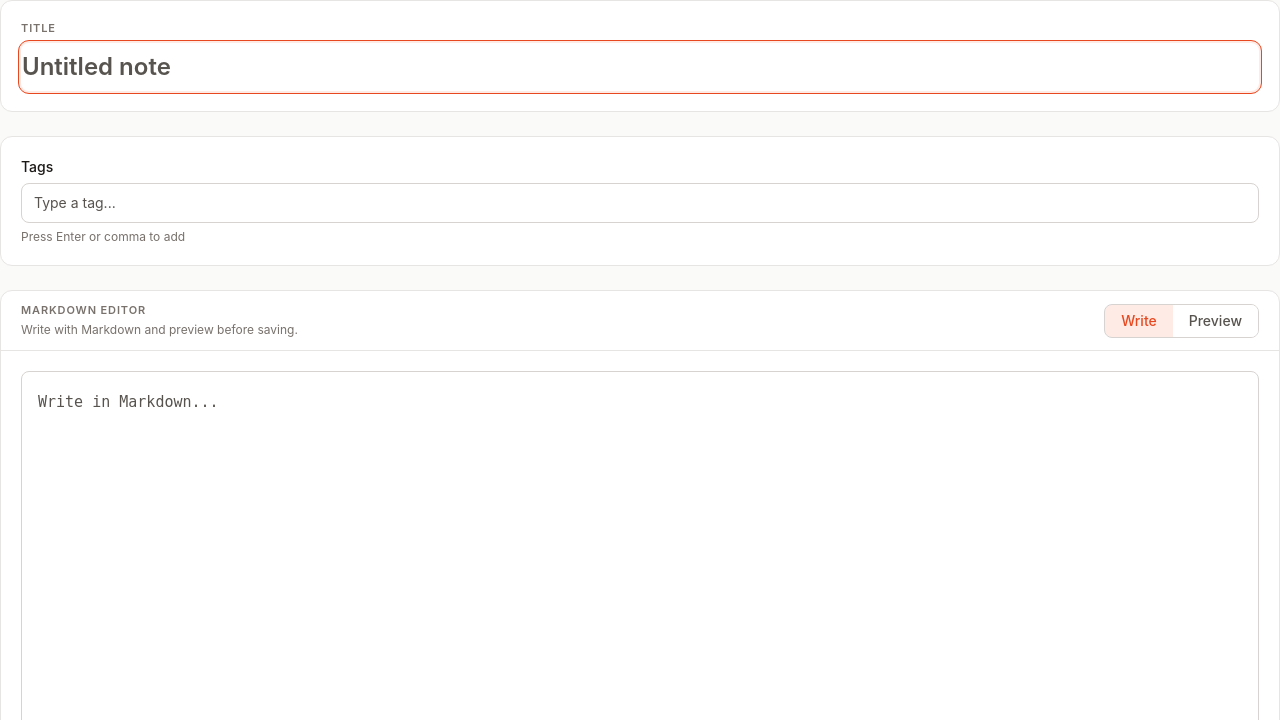
Test case: NoteEditor › maps server validation errors to their fields
Type "x" into the field labelled "Title".
click(640, 67); type("x")  # box [21,43,1259,91]
(page scrolled)
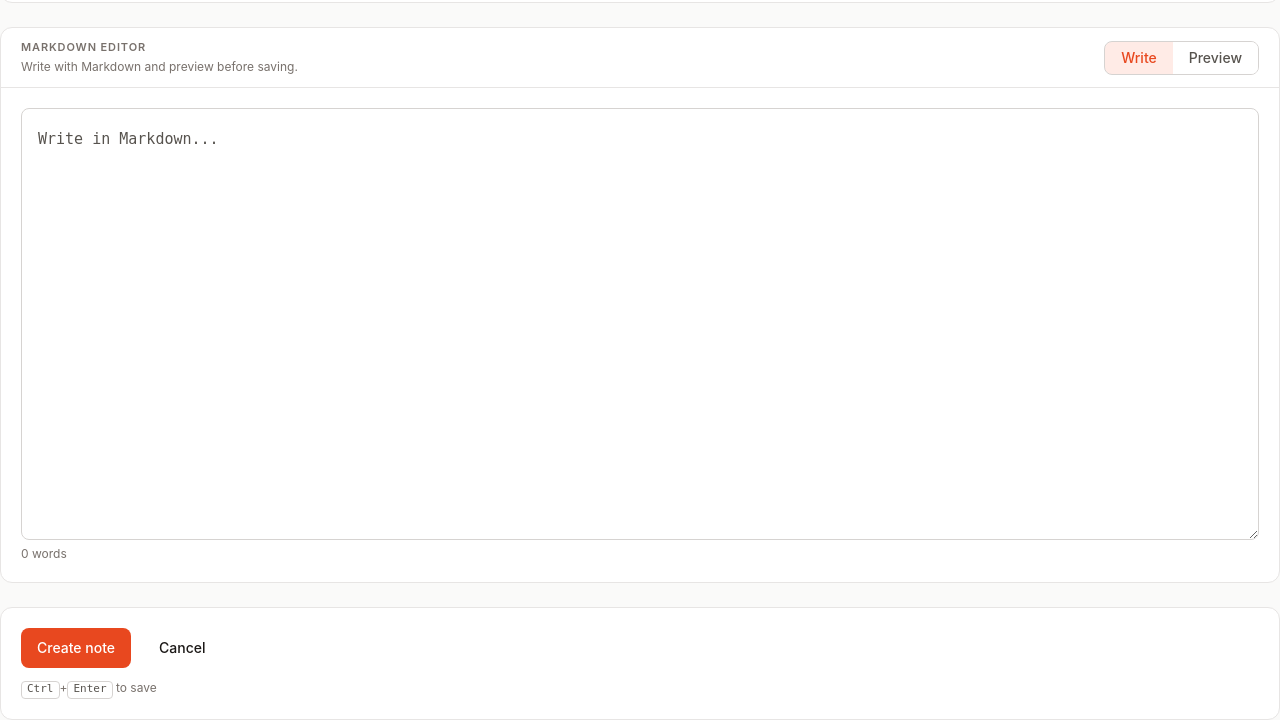
Click the button "Create note".
click(76, 648)  # box [21,628,131,668]
(page scrolled)
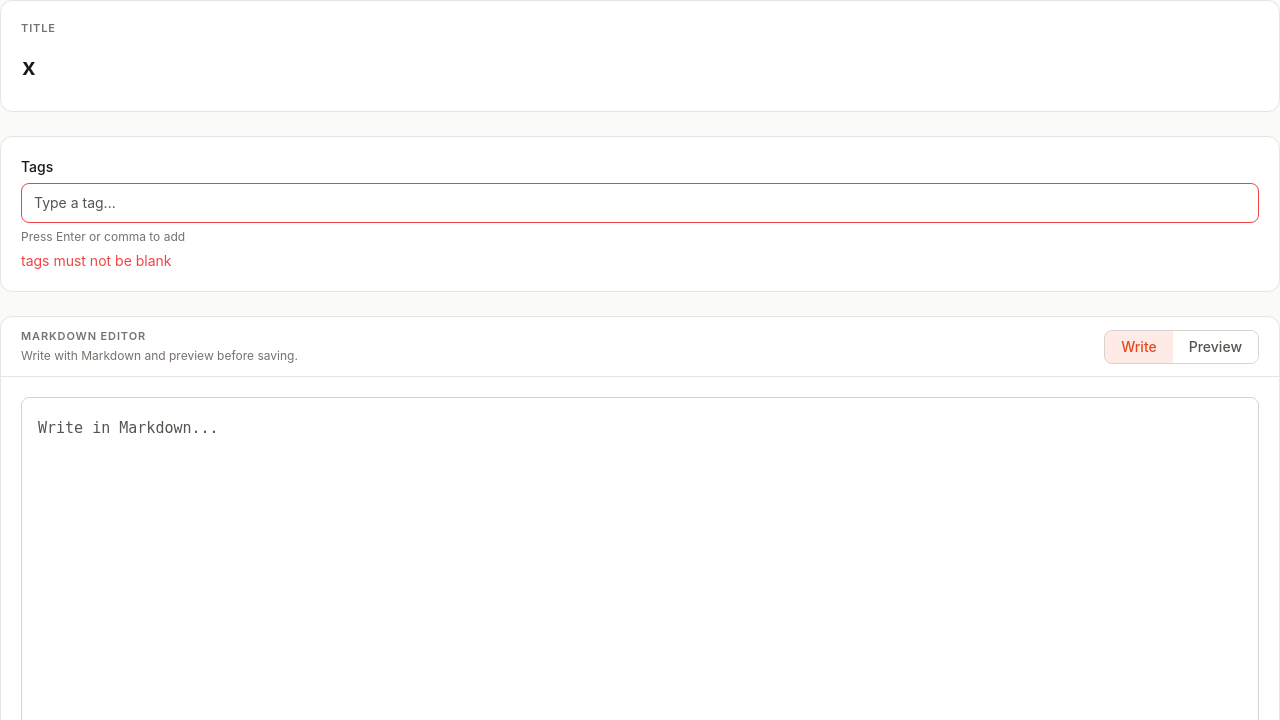
Expected: the text "tags must not be blank" is shown, [21,252,172,269]
